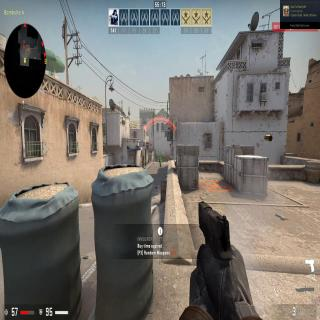CT-Body: (159, 158, 161, 166)
CT-Head: (160, 158, 160, 160)
